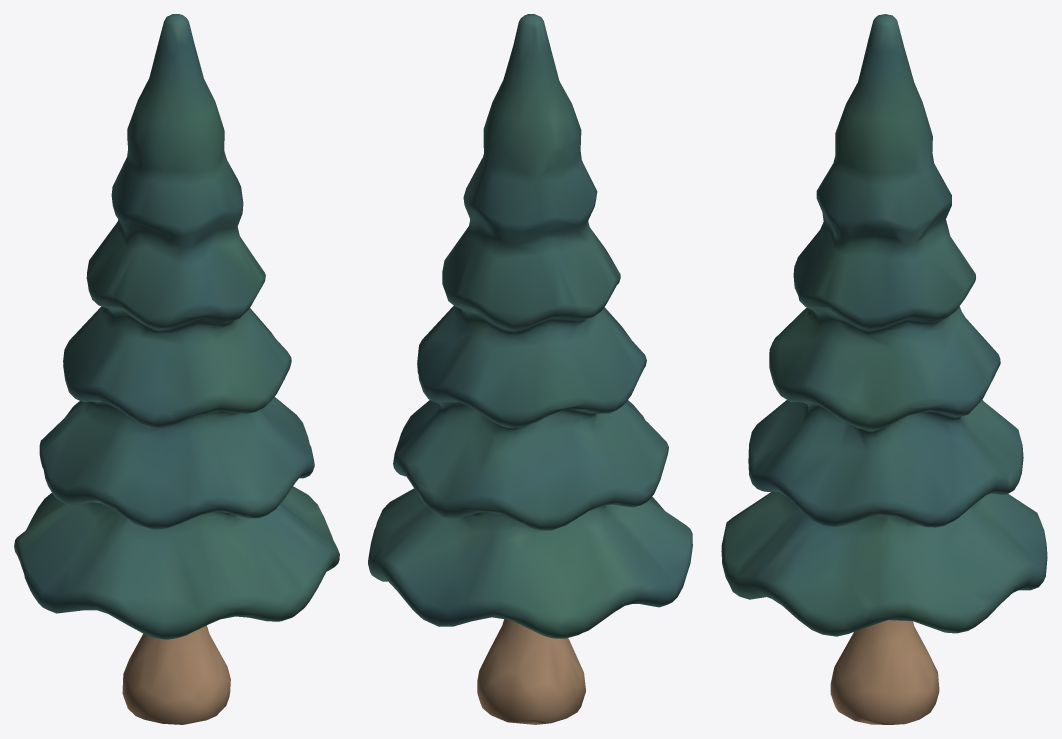
Rendered from pine_fast.glb.
3 renders of one model, left to right at view 1: azimuth 30°, elevation 25°; view 2: azimuth 150°, elevation 25°; view 3: azimuth 270°, elevation 25°, orthographic.
Visible parts, largest first — view 1: pine_canopy, body; view 2: pine_canopy, body; view 3: pine_canopy, body.
Boxes of the visible parts, <box> form: pine_canopy: <box>14,14,339,639</box>; body: <box>122,625,230,724</box>; pine_canopy: <box>368,14,692,638</box>; body: <box>477,619,585,724</box>; pine_canopy: <box>721,14,1047,636</box>; body: <box>830,620,939,724</box>.
Bounding box in the file's own units: 2.78 × 6.6 × 2.79.
